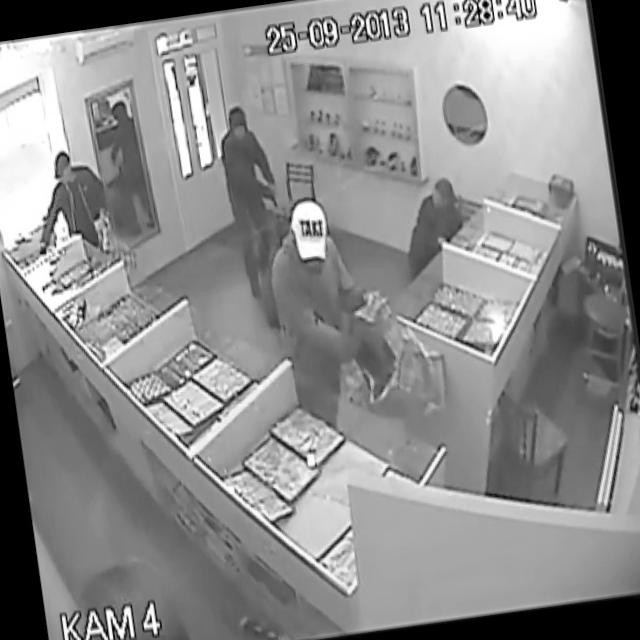gun: (256, 173, 285, 218)
person: (265, 190, 386, 388), (34, 132, 130, 248), (388, 158, 473, 263)
person with a gun: (213, 100, 296, 298)
